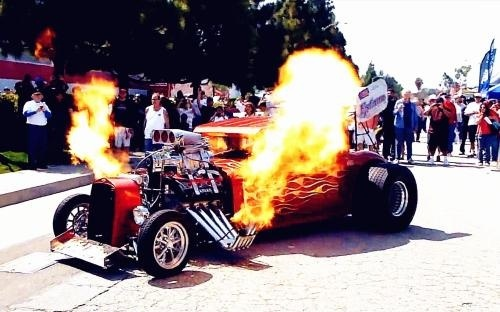fire: (233, 40, 362, 227), (66, 76, 128, 180), (202, 128, 229, 153)
